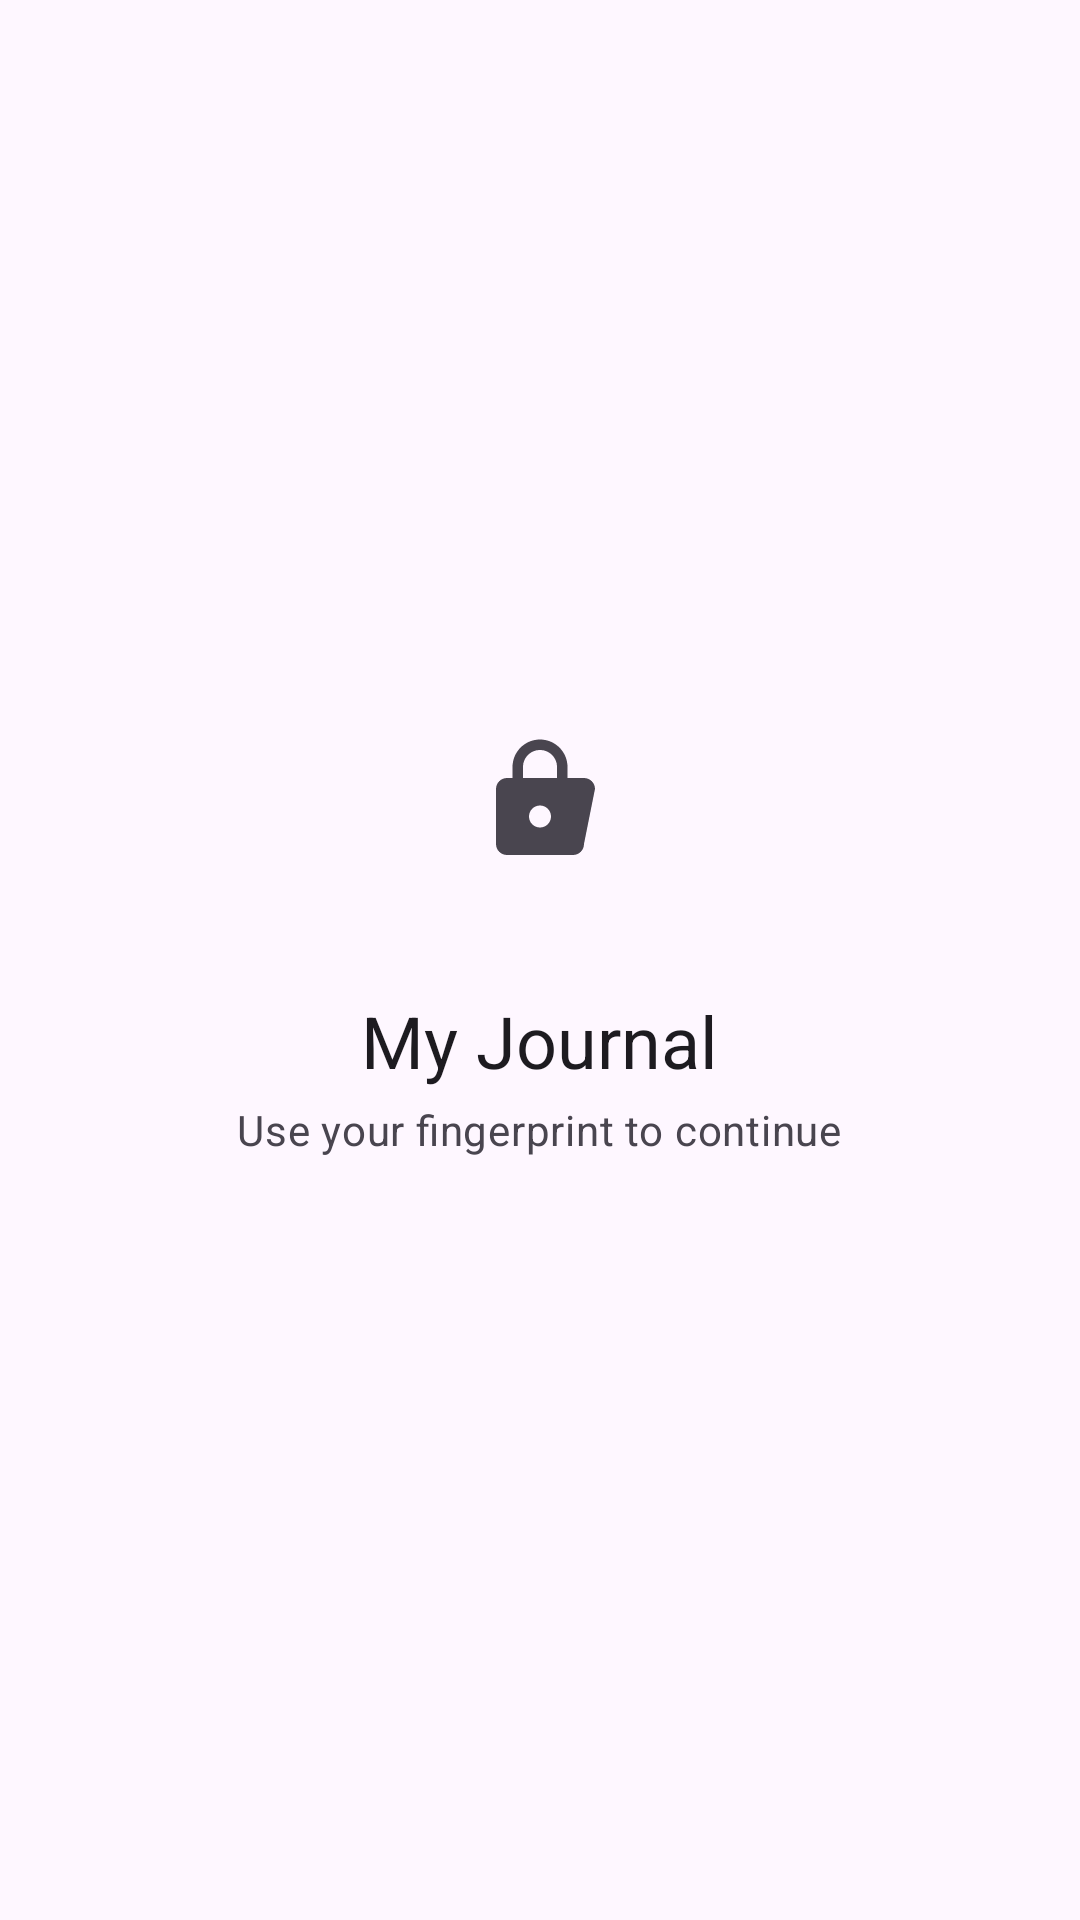

Icon click points for this 1080px x 1920px phone screenshot, format [x,y]:
lock: [545,797]
